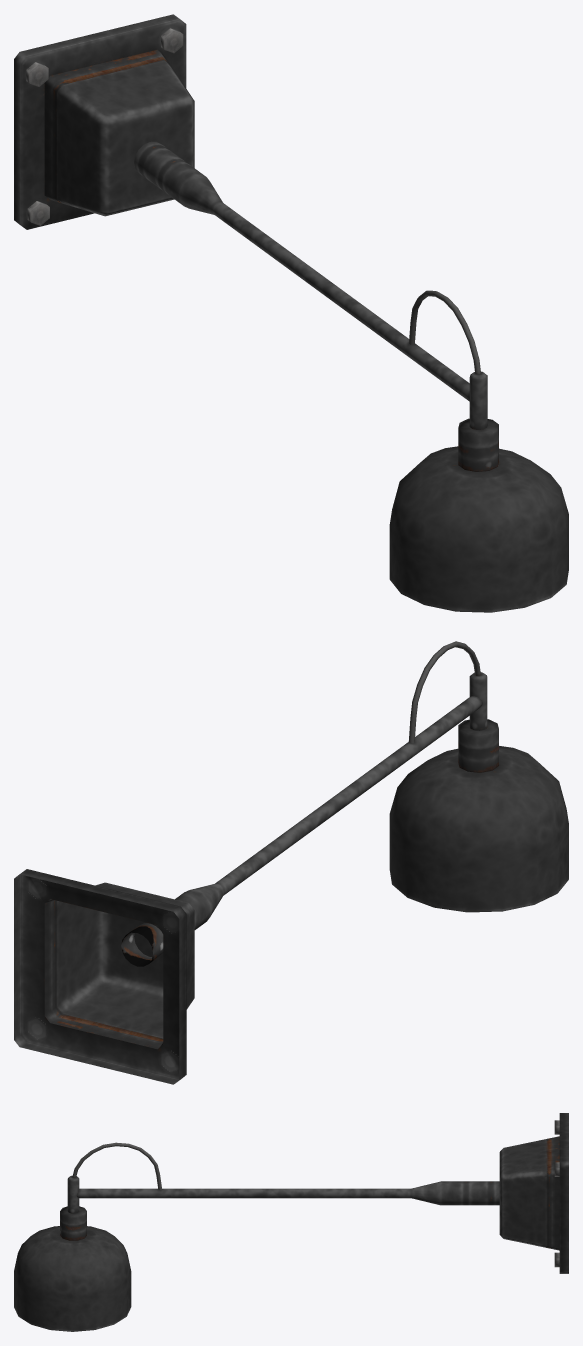
File: LampWall_Small3.fbx
The picture shows the model from 3 angles, top to bottom: view 1: azimuth 30°, elevation 25°; view 2: azimuth 150°, elevation 25°; view 3: azimuth 270°, elevation 25°; orthographic projection. The views are drawn at different scales.
Visible parts, largest first — view 1: LampWall_Small3_LOD0; view 2: LampWall_Small3_LOD0; view 3: LampWall_Small3_LOD0.
Part boxes in pixels (x1=…): LampWall_Small3_LOD0: x1=14, y1=14, x2=568, y2=612; LampWall_Small3_LOD0: x1=14, y1=641, x2=568, y2=1084; LampWall_Small3_LOD0: x1=14, y1=1113, x2=568, y2=1331.
Size of what is drawn, in the model's own units: 48.46 by 73.38 by 217.
